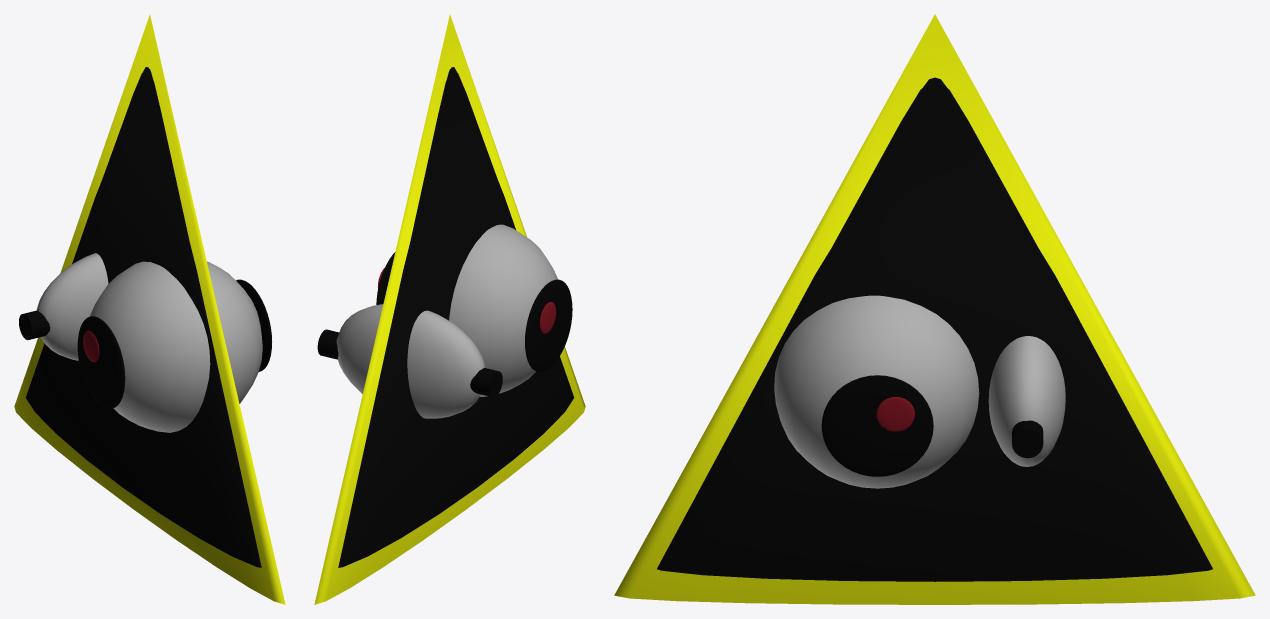
Rendered from Drone Warning.fbx.
The picture shows the model from 3 angles, left to right: view 1: azimuth 30°, elevation 25°; view 2: azimuth 150°, elevation 25°; view 3: azimuth 270°, elevation 25°; orthographic projection. The views are drawn at different scales.
Parts seen in each view (by area): view 1: pasted__pasted__pasted__pSphere1; view 2: pasted__pasted__pasted__pSphere1; view 3: pasted__pasted__pasted__pSphere1.
Part boxes in pixels (left/top/right/bottom): pasted__pasted__pasted__pSphere1: left=14, top=14, right=285, bottom=604; pasted__pasted__pasted__pSphere1: left=314, top=14, right=585, bottom=604; pasted__pasted__pasted__pSphere1: left=614, top=14, right=1255, bottom=604.
Size of the model in its own units: 1.18 by 3.23 by 3.23.
